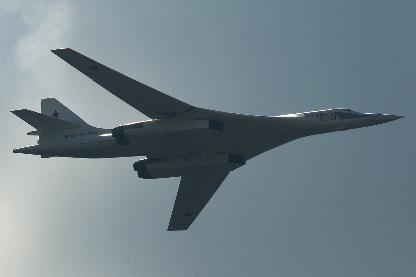Su34: (10, 47, 404, 230)
